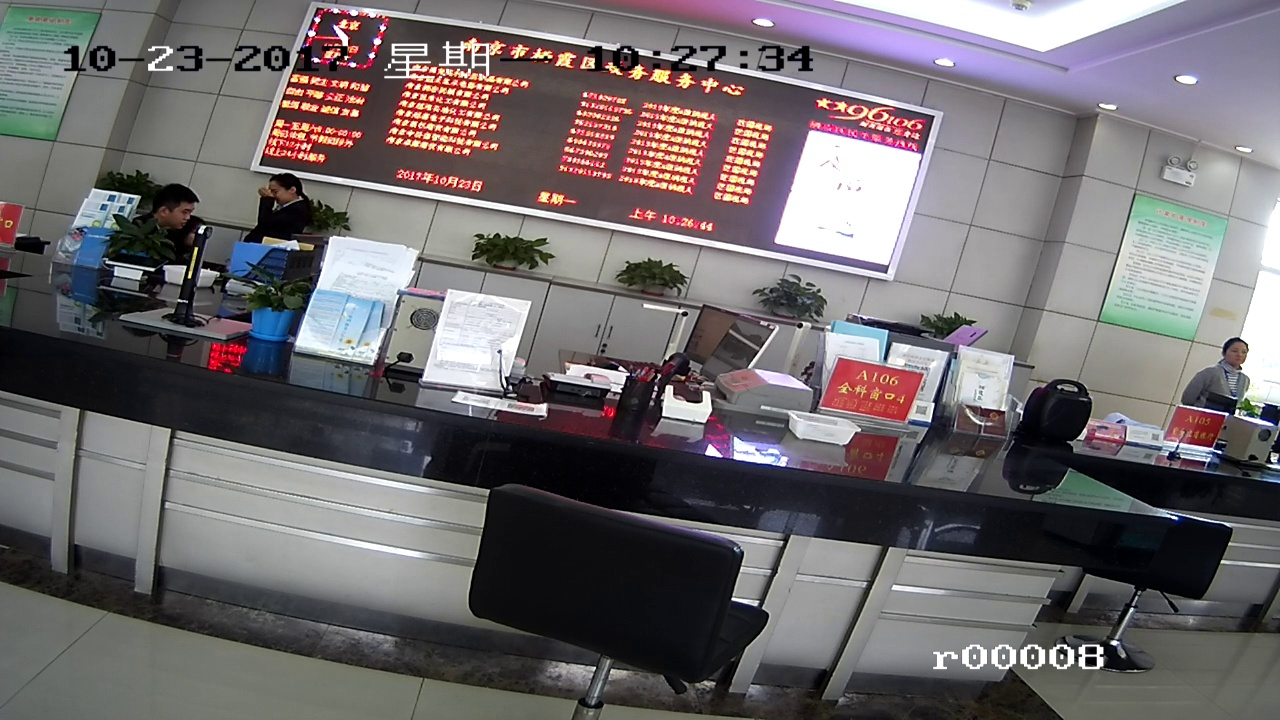billboard: (1125, 192, 1202, 344), (440, 298, 522, 402), (826, 361, 908, 435)
chair: (471, 488, 752, 714), (1098, 517, 1215, 689)
monitor: (290, 11, 898, 276)
person: (1210, 337, 1254, 398), (258, 174, 296, 234), (158, 183, 202, 233)
pot: (469, 229, 549, 270), (622, 257, 684, 296), (769, 280, 817, 325)
